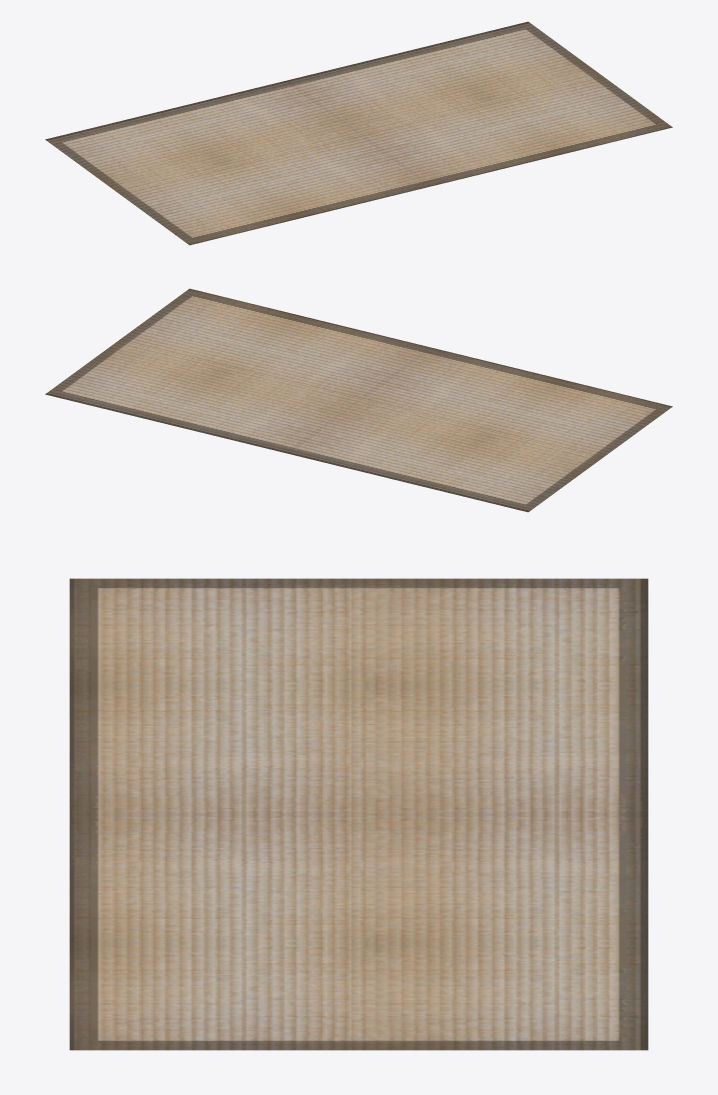
The model's file is Tatami1.c.fbx.
The picture shows the model from 3 angles, top to bottom: view 1: azimuth 30°, elevation 25°; view 2: azimuth 150°, elevation 25°; view 3: azimuth 270°, elevation 25°; orthographic projection. The views are drawn at different scales.
Parts seen in each view (by area): view 1: Group 0; view 2: Group 0; view 3: Group 0.
Boxes of the visible parts, left/top/right/bottom form: Group 0: left=45, top=21, right=672, bottom=245; Group 0: left=45, top=288, right=672, bottom=512; Group 0: left=69, top=578, right=648, bottom=1050.
Bounding box in the file's own units: 185 × 1.01e-05 × 85.
Materials: 1 (1 with a texture image).
